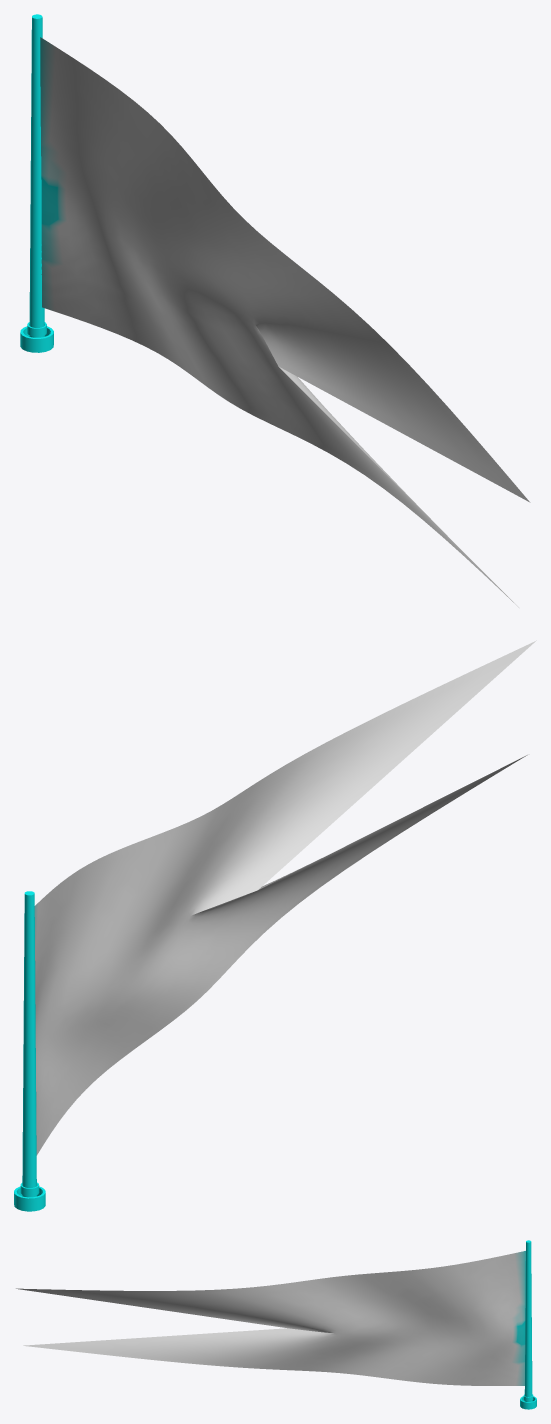
Rendered from SM_ShipFlag.FBX.
The picture shows the model from 3 angles, top to bottom: view 1: azimuth 30°, elevation 25°; view 2: azimuth 150°, elevation 25°; view 3: azimuth 270°, elevation 25°; orthographic projection. The views are drawn at different scales.
Parts seen in each view (by area): view 1: StaticMesh; view 2: StaticMesh; view 3: StaticMesh.
Boxes of the visible parts, box(x1,y1,x2,y2) form: StaticMesh: box(20, 14, 530, 607); StaticMesh: box(14, 640, 536, 1211); StaticMesh: box(16, 1240, 536, 1409).
Size of the model in its own units: 71.24 by 1405 by 488.
